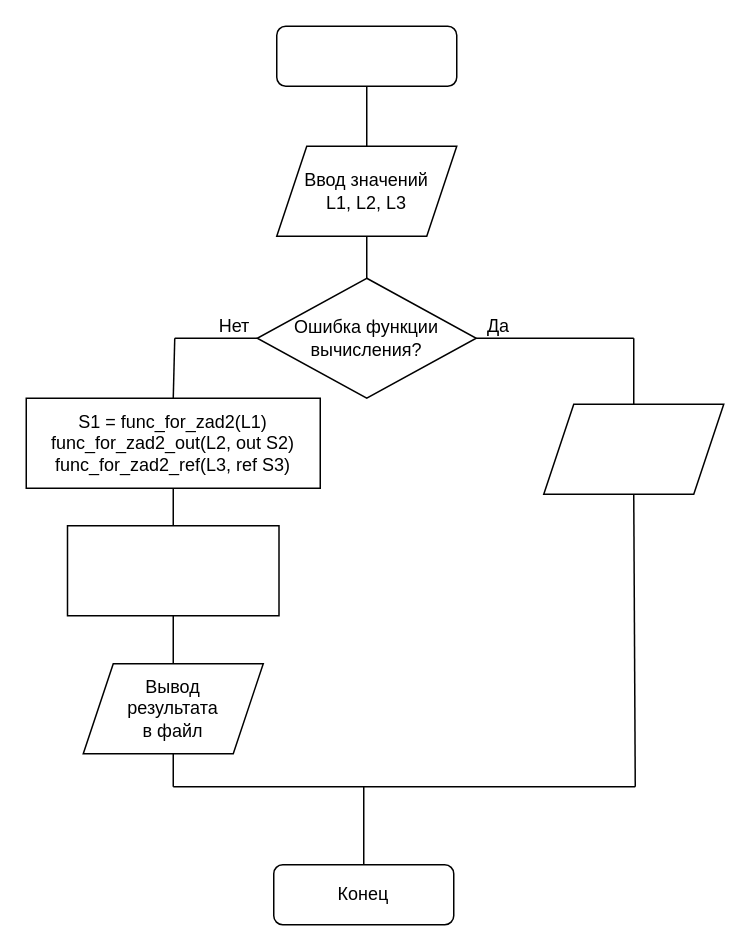
Image size: 750x951. Some labels were removed from this diagram. The centre of each missing label's shape, as x and y in pixels:
Button: point (366, 55)
Output(textBox1, S1) Output(textBox2, S2) Output(textBox3, S3): point (172, 570)
Вывод сообщения об ошибке: point (633, 448)
